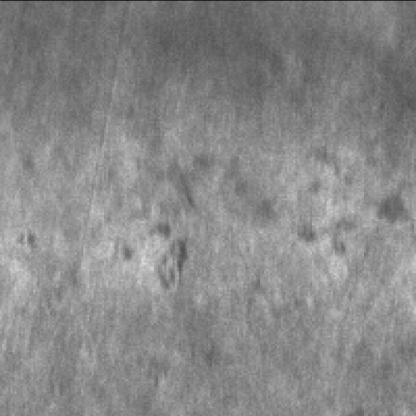rolled-in_scale: (114, 152, 412, 285)
